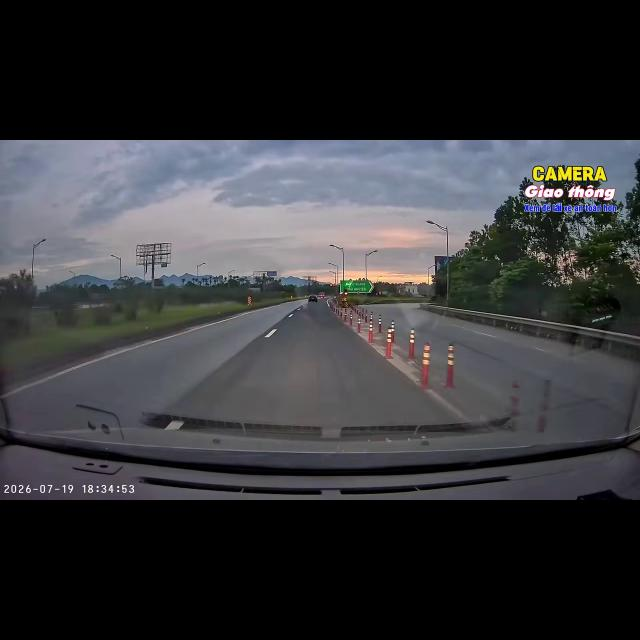car: (308, 294, 318, 302)
